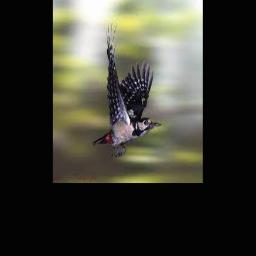Woodpecker: (92, 22, 162, 156)
